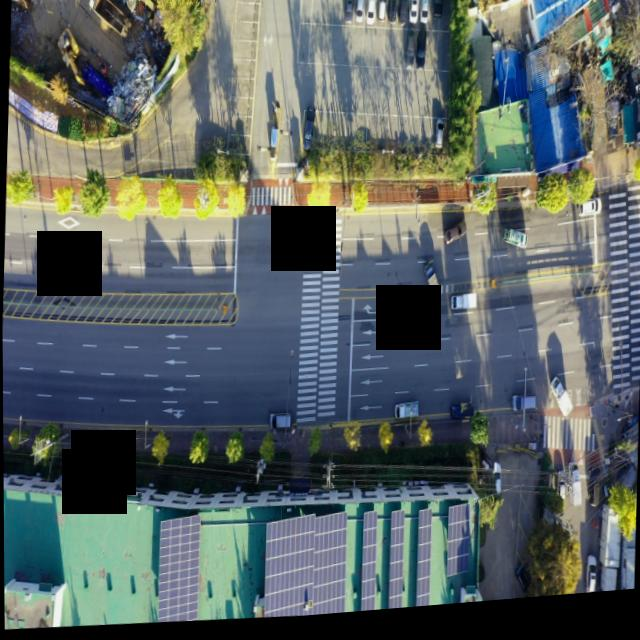car: (300, 111, 317, 158), (586, 472, 600, 519), (576, 204, 602, 229), (415, 34, 429, 77), (393, 407, 418, 428), (510, 401, 536, 421), (404, 33, 415, 76), (269, 416, 291, 435), (554, 477, 566, 511), (585, 563, 595, 603), (408, 0, 420, 33), (398, 0, 410, 33), (342, 0, 355, 30), (433, 125, 445, 157), (431, 0, 445, 27), (376, 0, 387, 32), (420, 0, 431, 31), (387, 0, 398, 31), (355, 0, 366, 28), (366, 0, 375, 30)
small_truck: (544, 382, 574, 429), (419, 265, 441, 312), (564, 469, 583, 519), (499, 232, 528, 260), (442, 224, 466, 255), (448, 407, 474, 430), (450, 297, 477, 319)
